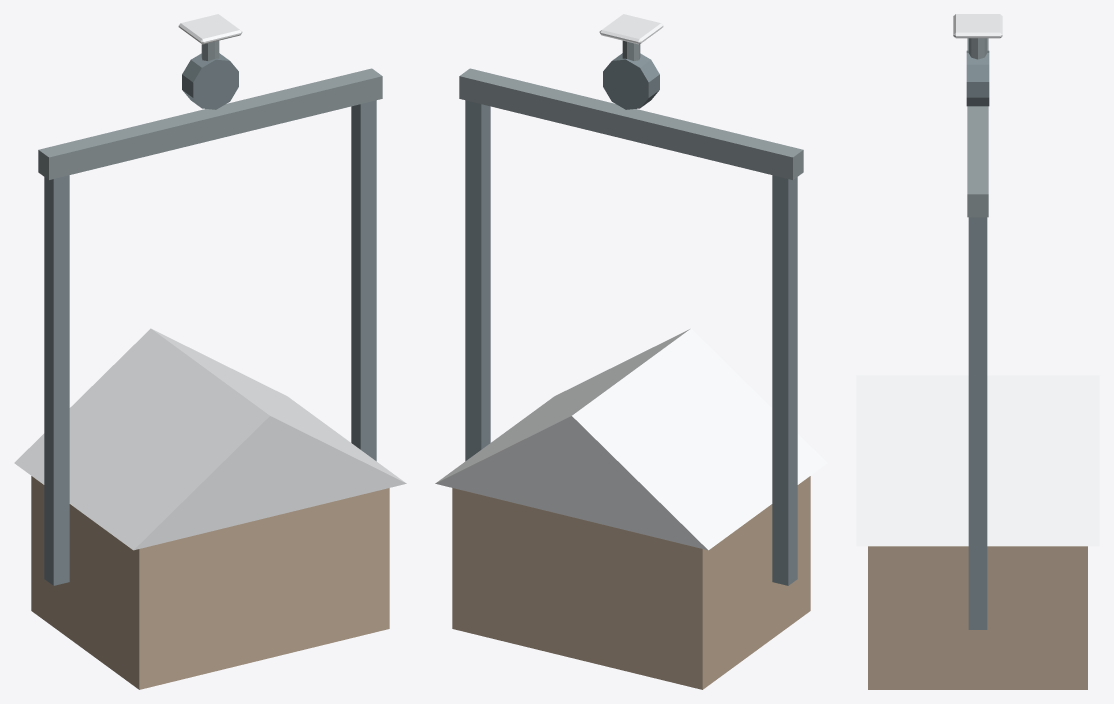
The model's file is ski_lift_summit_far-CMLNgXuk.glb.
3 renders of one model, left to right at view 1: azimuth 30°, elevation 25°; view 2: azimuth 150°, elevation 25°; view 3: azimuth 270°, elevation 25°, orthographic.
Visible parts, largest first — view 1: ski_lift_summit_far; view 2: ski_lift_summit_far; view 3: ski_lift_summit_far.
Part boxes in pixels (left/top/right/bottom): ski_lift_summit_far: left=14, top=14, right=406, bottom=689; ski_lift_summit_far: left=435, top=14, right=827, bottom=689; ski_lift_summit_far: left=856, top=14, right=1099, bottom=689.
Size of the model in its own units: 10 by 17 by 6.2.
